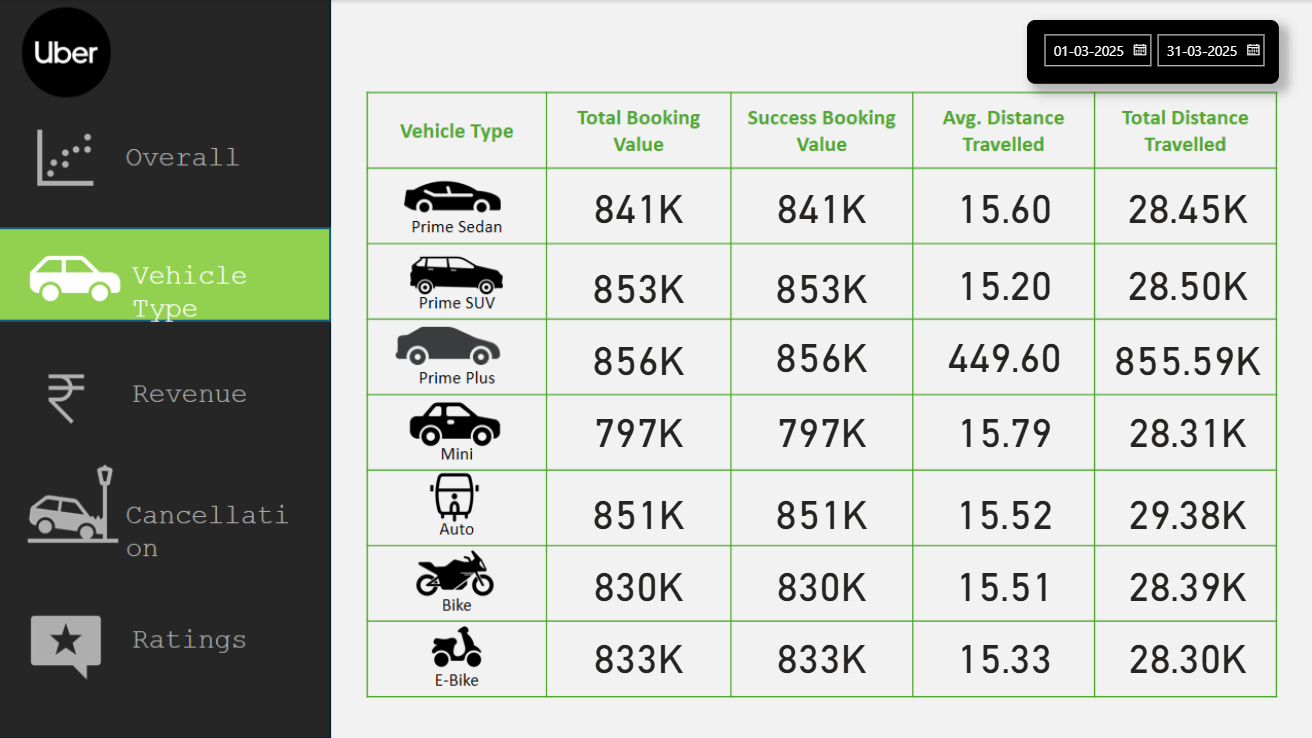

The dashboard page shown, as its layout file describes it:
{"tool":"powerbi","page":{"name":"Vehicle Type","canvas":[1280,720],"ordinal":1},"visuals":[{"type":"actionButton","box":[0,333.4,321.9,91.3],"z":0},{"type":"actionButton","box":[0,108.2,321.9,91.3],"z":1000},{"type":"actionButton","box":[0,449.6,321.9,95.8],"z":2000},{"type":"actionButton","box":[0,573.7,321.9,95.8],"z":3000},{"type":"card","fields":{"Values":["Sum(Sheet1 (2).Booking_Value)"]},"box":[534,164.4,178,70],"z":4000},{"type":"card","fields":{"Values":["Sum(Sheet1 (2).Booking_Value)"]},"box":[534,242.2,178,70],"z":5000},{"type":"card","fields":{"Values":["Sum(Sheet1 (2).Booking_Value)"]},"box":[534,312.2,178,70],"z":6000},{"type":"card","fields":{"Values":["Sum(Sheet1 (2).Booking_Value)"]},"box":[534,382.2,178,70],"z":7000},{"type":"card","fields":{"Values":["Sum(Sheet1 (2).Booking_Value)"]},"box":[534,462,178,70],"z":8000},{"type":"card","fields":{"Values":["Sum(Sheet1 (2).Booking_Value)"]},"box":[534,532,178,70],"z":9000},{"type":"card","fields":{"Values":["Sum(Sheet1 (2).Booking_Value)"]},"box":[534,602.1,178,70],"z":10000},{"type":"card","fields":{"Values":["Sum(Sheet1 (2).Booking_Value)"]},"box":[712,164.4,178,70],"z":11000},{"type":"card","fields":{"Values":["Sum(Sheet1 (2).Booking_Value)"]},"box":[712,242.2,178,70],"z":12000},{"type":"card","fields":{"Values":["Sum(Sheet1 (2).Booking_Value)"]},"box":[712,309.3,178,70],"z":13000},{"type":"card","fields":{"Values":["Sum(Sheet1 (2).Booking_Value)"]},"box":[712,382.2,178,70],"z":14000},{"type":"card","fields":{"Values":["Sum(Sheet1 (2).Booking_Value)"]},"box":[712,462,178,70],"z":15000},{"type":"card","fields":{"Values":["Sum(Sheet1 (2).Booking_Value)"]},"box":[712,532,178,70],"z":16000},{"type":"card","fields":{"Values":["Sum(Sheet1 (2).Booking_Value)"]},"box":[712,602.1,178,70],"z":17000},{"type":"card","fields":{"Values":["Avg(Sheet1 (2).Ride_Distance)"]},"box":[890,164.4,178,70],"z":18000},{"type":"card","fields":{"Values":["Avg(Sheet1 (2).Ride_Distance)"]},"box":[890,239.3,178,70],"z":19000},{"type":"card","fields":{"Values":["Avg(Sheet1 (2).Booking_Value)"]},"box":[890,309.3,178,70],"z":20000},{"type":"card","fields":{"Values":["Avg(Sheet1 (2).Ride_Distance)"]},"box":[890,382.2,178,70],"z":21000},{"type":"card","fields":{"Values":["Avg(Sheet1 (2).Ride_Distance)"]},"box":[890,462,178,70],"z":22000},{"type":"card","fields":{"Values":["Avg(Sheet1 (2).Ride_Distance)"]},"box":[890,532,178,70],"z":23000},{"type":"card","fields":{"Values":["Avg(Sheet1 (2).Ride_Distance)"]},"box":[890,602.1,178,70],"z":24000},{"type":"card","fields":{"Values":["Sum(Sheet1 (2).Ride_Distance)"]},"box":[1068,164.4,178,70],"z":25000},{"type":"card","fields":{"Values":["Sum(Sheet1 (2).Ride_Distance)"]},"box":[1068,239.3,178,70],"z":26000},{"type":"card","fields":{"Values":["Sum(Sheet1 (2).Booking_Value)"]},"box":[1068,312.2,178,70],"z":27000},{"type":"card","fields":{"Values":["Sum(Sheet1 (2).Ride_Distance)"]},"box":[1068,382.2,178,70],"z":28000},{"type":"card","fields":{"Values":["Sum(Sheet1 (2).Ride_Distance)"]},"box":[1068,462,178,70],"z":29000},{"type":"card","fields":{"Values":["Sum(Sheet1 (2).Ride_Distance)"]},"box":[1068,532,178,70],"z":30000},{"type":"card","fields":{"Values":["Sum(Sheet1 (2).Ride_Distance)"]},"box":[1068,602.1,178,70],"z":31000},{"type":"slicer","title":"Date","fields":{"Values":["Sheet1 (2).Date"]},"box":[1000.9,19.5,245.1,62.2],"z":32000}]}

Visuals, with their boxes on the page's 1280x720 design canvas (x1, y1, x2, y2). These are canvas units, not pixel positions in the 1312x738 screenshot, which may show the page scaled, cropped or inside an application window:
actionButton: Rect(0, 333, 322, 425)
actionButton: Rect(0, 108, 322, 200)
actionButton: Rect(0, 450, 322, 545)
actionButton: Rect(0, 574, 322, 670)
card - Sum(Sheet1 (2).Booking_Value): Rect(534, 164, 712, 234)
card - Sum(Sheet1 (2).Booking_Value): Rect(534, 242, 712, 312)
card - Sum(Sheet1 (2).Booking_Value): Rect(534, 312, 712, 382)
card - Sum(Sheet1 (2).Booking_Value): Rect(534, 382, 712, 452)
card - Sum(Sheet1 (2).Booking_Value): Rect(534, 462, 712, 532)
card - Sum(Sheet1 (2).Booking_Value): Rect(534, 532, 712, 602)
card - Sum(Sheet1 (2).Booking_Value): Rect(534, 602, 712, 672)
card - Sum(Sheet1 (2).Booking_Value): Rect(712, 164, 890, 234)
card - Sum(Sheet1 (2).Booking_Value): Rect(712, 242, 890, 312)
card - Sum(Sheet1 (2).Booking_Value): Rect(712, 309, 890, 379)
card - Sum(Sheet1 (2).Booking_Value): Rect(712, 382, 890, 452)
card - Sum(Sheet1 (2).Booking_Value): Rect(712, 462, 890, 532)
card - Sum(Sheet1 (2).Booking_Value): Rect(712, 532, 890, 602)
card - Sum(Sheet1 (2).Booking_Value): Rect(712, 602, 890, 672)
card - Avg(Sheet1 (2).Ride_Distance): Rect(890, 164, 1068, 234)
card - Avg(Sheet1 (2).Ride_Distance): Rect(890, 239, 1068, 309)
card - Avg(Sheet1 (2).Booking_Value): Rect(890, 309, 1068, 379)
card - Avg(Sheet1 (2).Ride_Distance): Rect(890, 382, 1068, 452)
card - Avg(Sheet1 (2).Ride_Distance): Rect(890, 462, 1068, 532)
card - Avg(Sheet1 (2).Ride_Distance): Rect(890, 532, 1068, 602)
card - Avg(Sheet1 (2).Ride_Distance): Rect(890, 602, 1068, 672)
card - Sum(Sheet1 (2).Ride_Distance): Rect(1068, 164, 1246, 234)
card - Sum(Sheet1 (2).Ride_Distance): Rect(1068, 239, 1246, 309)
card - Sum(Sheet1 (2).Booking_Value): Rect(1068, 312, 1246, 382)
card - Sum(Sheet1 (2).Ride_Distance): Rect(1068, 382, 1246, 452)
card - Sum(Sheet1 (2).Ride_Distance): Rect(1068, 462, 1246, 532)
card - Sum(Sheet1 (2).Ride_Distance): Rect(1068, 532, 1246, 602)
card - Sum(Sheet1 (2).Ride_Distance): Rect(1068, 602, 1246, 672)
"Date" slicer: Rect(1001, 20, 1246, 82)
